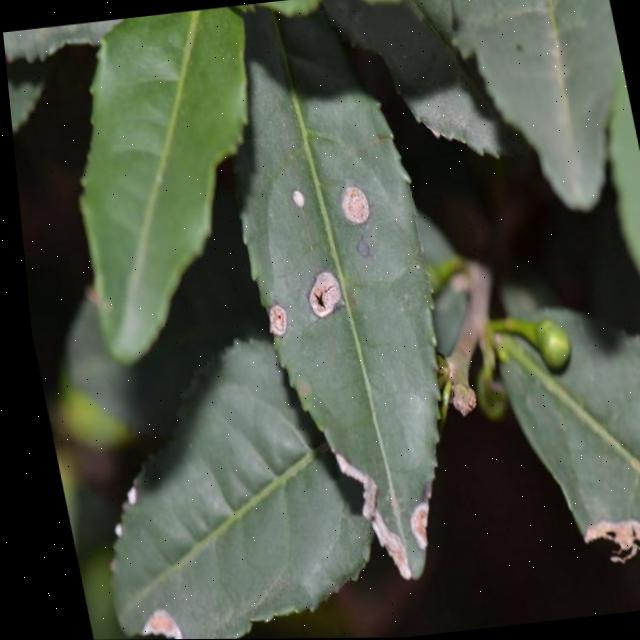Tea cloud leaf blight: (319, 440, 444, 581), (313, 165, 401, 241), (284, 254, 363, 330), (249, 286, 300, 358), (114, 589, 174, 640)
